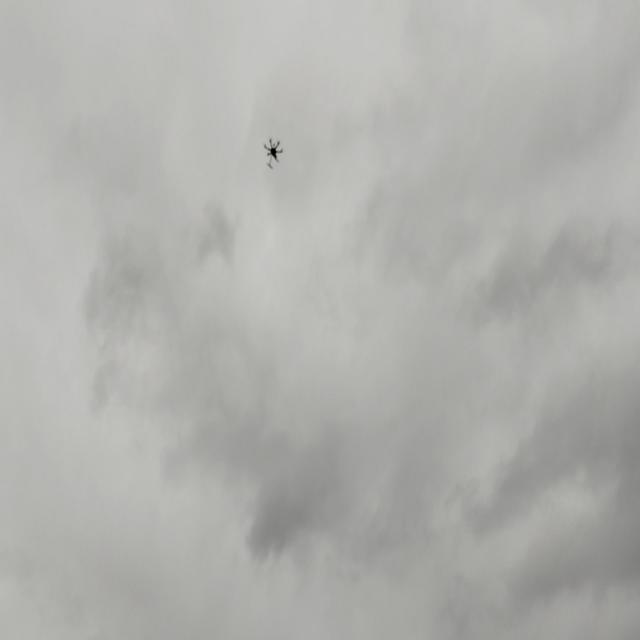drone: (262, 135, 285, 171)
